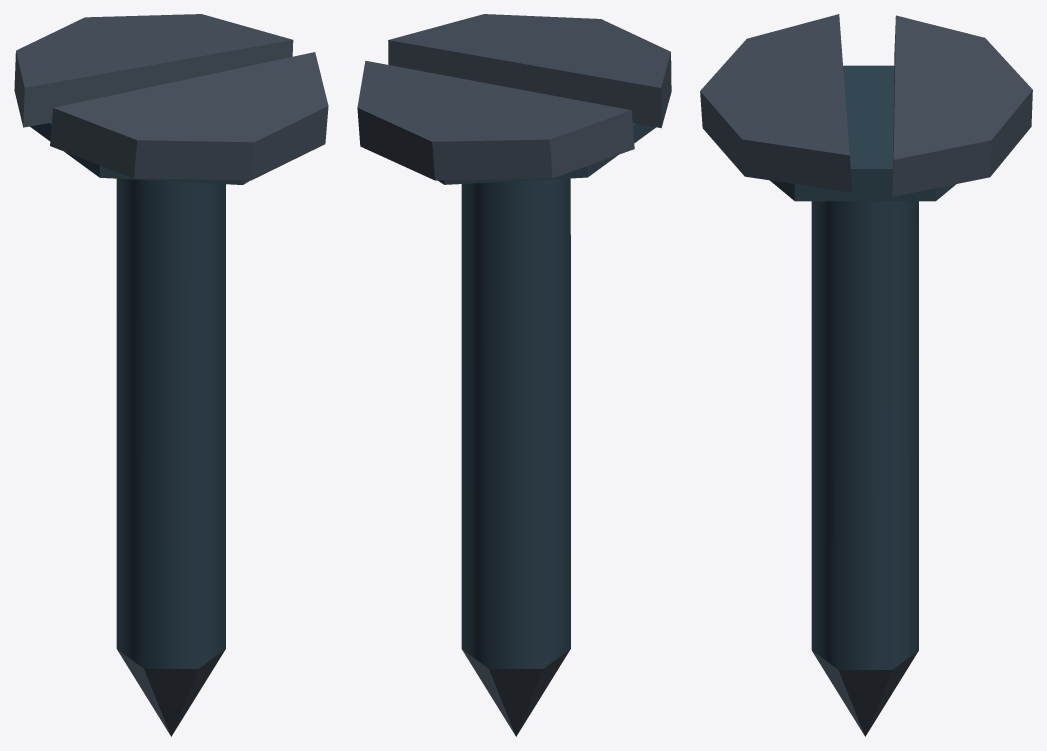
The model's file is parafuso_003.fbx.
3 renders of one model, left to right at view 1: azimuth 30°, elevation 25°; view 2: azimuth 150°, elevation 25°; view 3: azimuth 270°, elevation 25°, orthographic.
Visible parts, largest first — view 1: parafuso_003; view 2: parafuso_003; view 3: parafuso_003.
Part boxes in pixels (x1=…): parafuso_003: x1=14, y1=14, x2=328, y2=736; parafuso_003: x1=357, y1=14, x2=671, y2=736; parafuso_003: x1=700, y1=14, x2=1032, y2=736.
Bounding box in the file's own units: 34.7 × 82.48 × 37.71.
